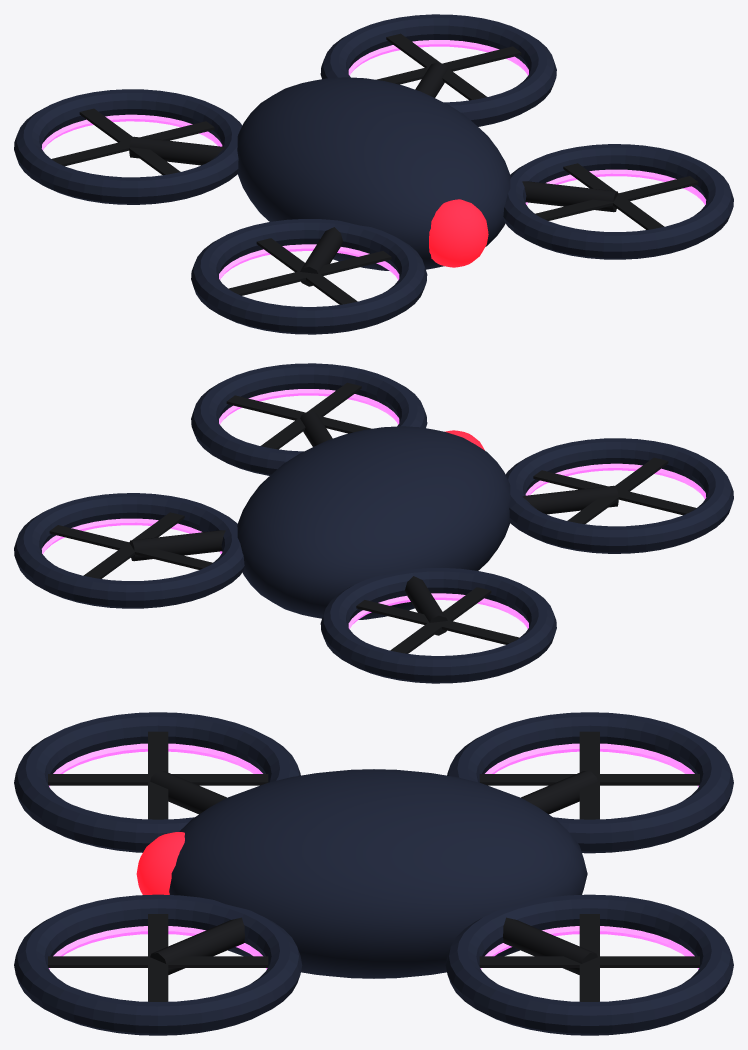
The model's file is ai-interceptor.glb.
The picture shows the model from 3 angles, top to bottom: view 1: azimuth 30°, elevation 25°; view 2: azimuth 150°, elevation 25°; view 3: azimuth 270°, elevation 25°; orthographic projection. The views are drawn at different scales.
Visible parts, largest first — view 1: Body, Rotor2, Rotor3, Rotor1, Rotor0; view 2: Body, Rotor1, Rotor0, Rotor2, Rotor3; view 3: Body, Rotor0, Rotor3, Rotor1, Rotor2.
Boxes of the visible parts, left/top/right/bottom form: Body: left=14, top=14, right=733, bottom=334; Rotor2: left=228, top=238, right=391, bottom=304; Rotor3: left=535, top=163, right=698, bottom=229; Rotor1: left=51, top=108, right=214, bottom=174; Rotor0: left=376, top=33, right=521, bottom=100; Body: left=14, top=363, right=733, bottom=683; Rotor1: left=356, top=587, right=519, bottom=653; Rotor0: left=49, top=512, right=212, bottom=578; Rotor2: left=533, top=457, right=696, bottom=523; Rotor3: left=226, top=382, right=371, bottom=449; Body: left=14, top=712, right=733, bottom=1035; Rotor0: left=479, top=914, right=699, bottom=1001; Rotor3: left=48, top=914, right=268, bottom=1001; Rotor1: left=479, top=731, right=699, bottom=819; Rotor2: left=48, top=731, right=268, bottom=819.
Size of the model in its own units: 4.25 by 1.08 by 4.25.
